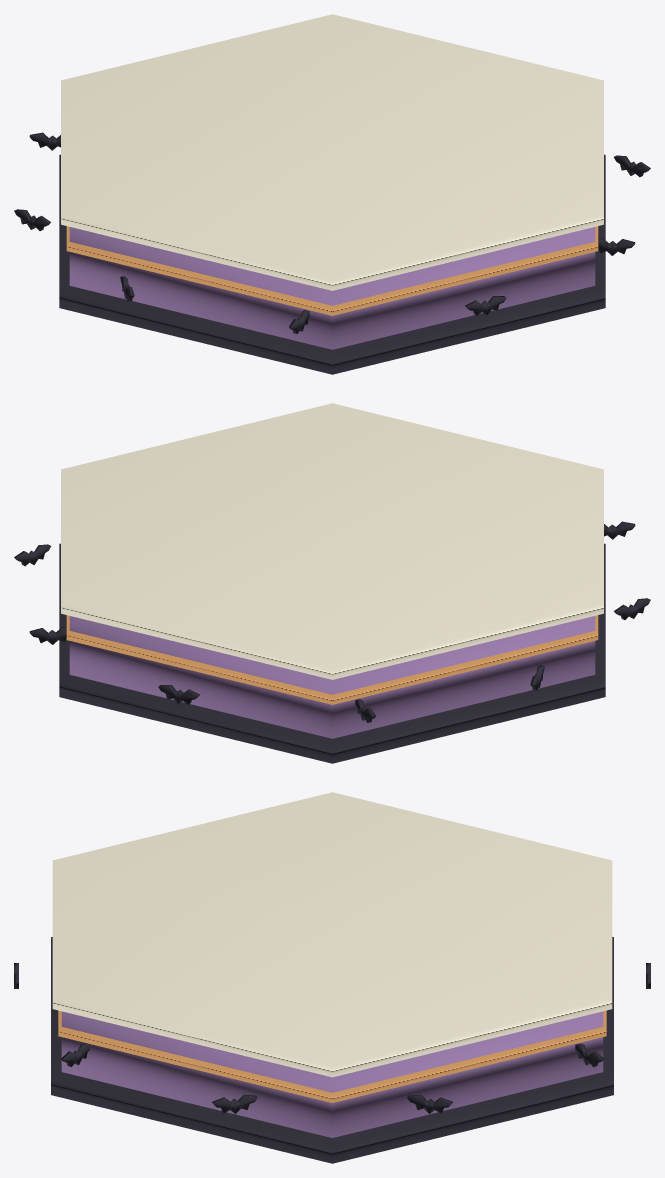
The model's file is pedestal_low.glb.
The picture shows the model from 3 angles, top to bottom: view 1: azimuth 30°, elevation 25°; view 2: azimuth 150°, elevation 25°; view 3: azimuth 270°, elevation 25°; orthographic projection. The views are drawn at different scales.
Bounding box in the file's own units: 6.34 × 1.05 × 6.21.
